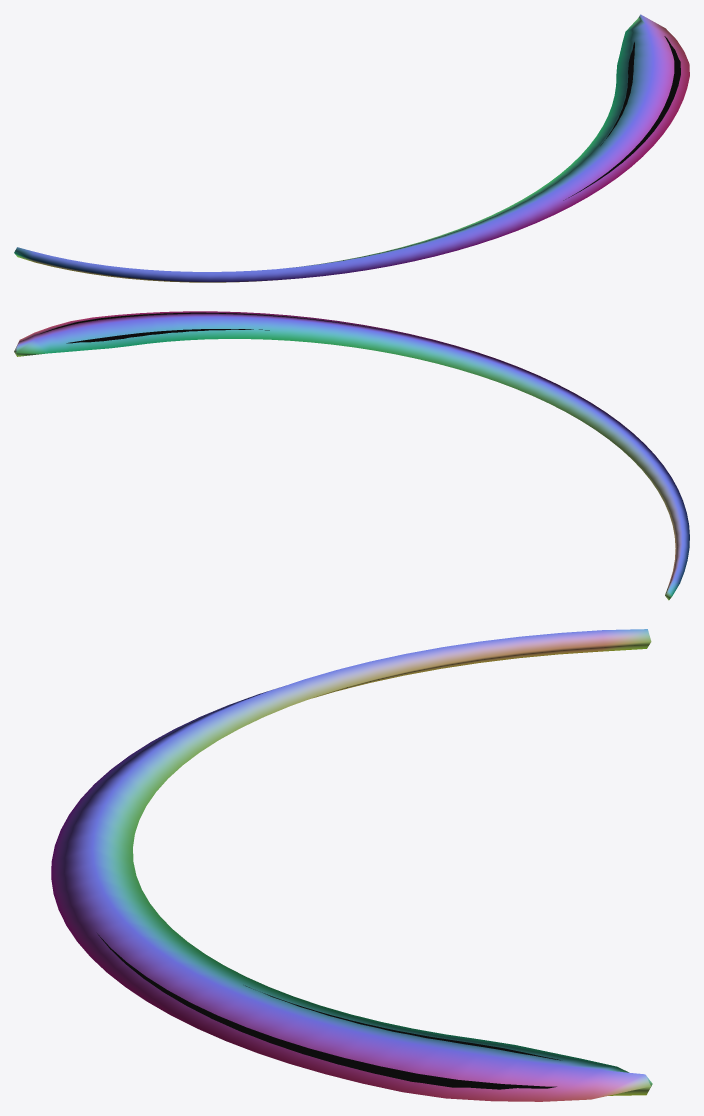
Rendered from SM_FX_SlashArc_Warrior_Back.fbx.
3 renders of one model, top to bottom at view 1: azimuth 30°, elevation 25°; view 2: azimuth 150°, elevation 25°; view 3: azimuth 270°, elevation 25°, orthographic. The views are drawn at different scales.
Visible parts, largest first — view 1: SM_FX_SlashArc_Warrior_Back; view 2: SM_FX_SlashArc_Warrior_Back; view 3: SM_FX_SlashArc_Warrior_Back.
Boxes of the visible parts, left/top/right/bottom form: SM_FX_SlashArc_Warrior_Back: left=14, top=14, right=689, bottom=282; SM_FX_SlashArc_Warrior_Back: left=14, top=311, right=689, bottom=600; SM_FX_SlashArc_Warrior_Back: left=51, top=629, right=652, bottom=1101.
Bounding box in the file's own units: 1.98 × 0.2705 × 0.809.
